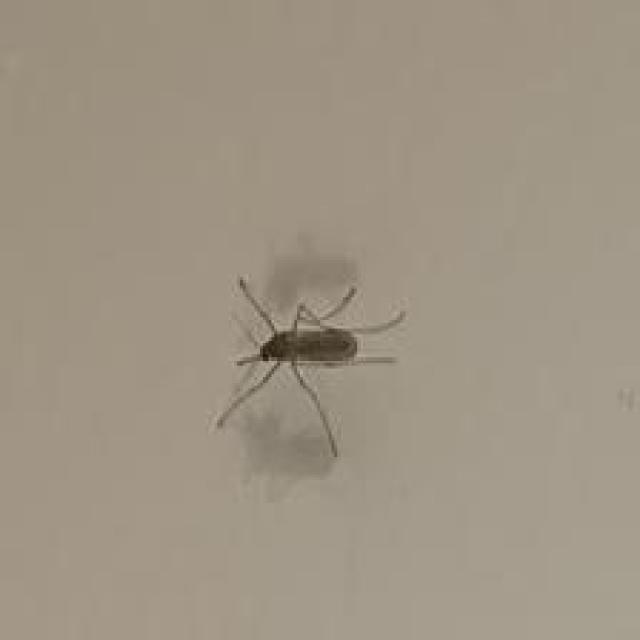Culex: (211, 273, 406, 458)
